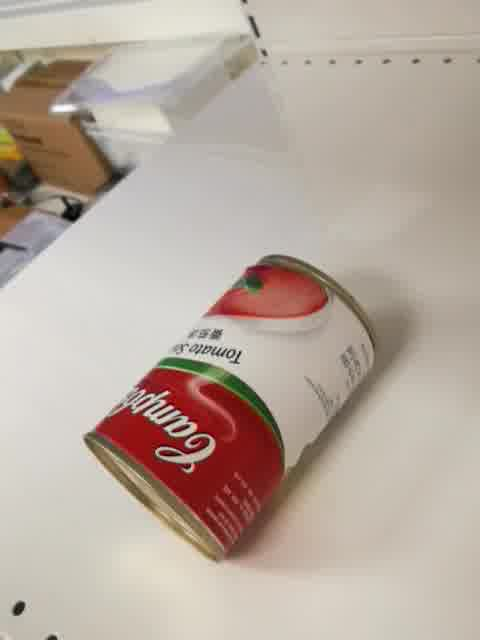tomatosoup: (81, 252, 387, 566)
